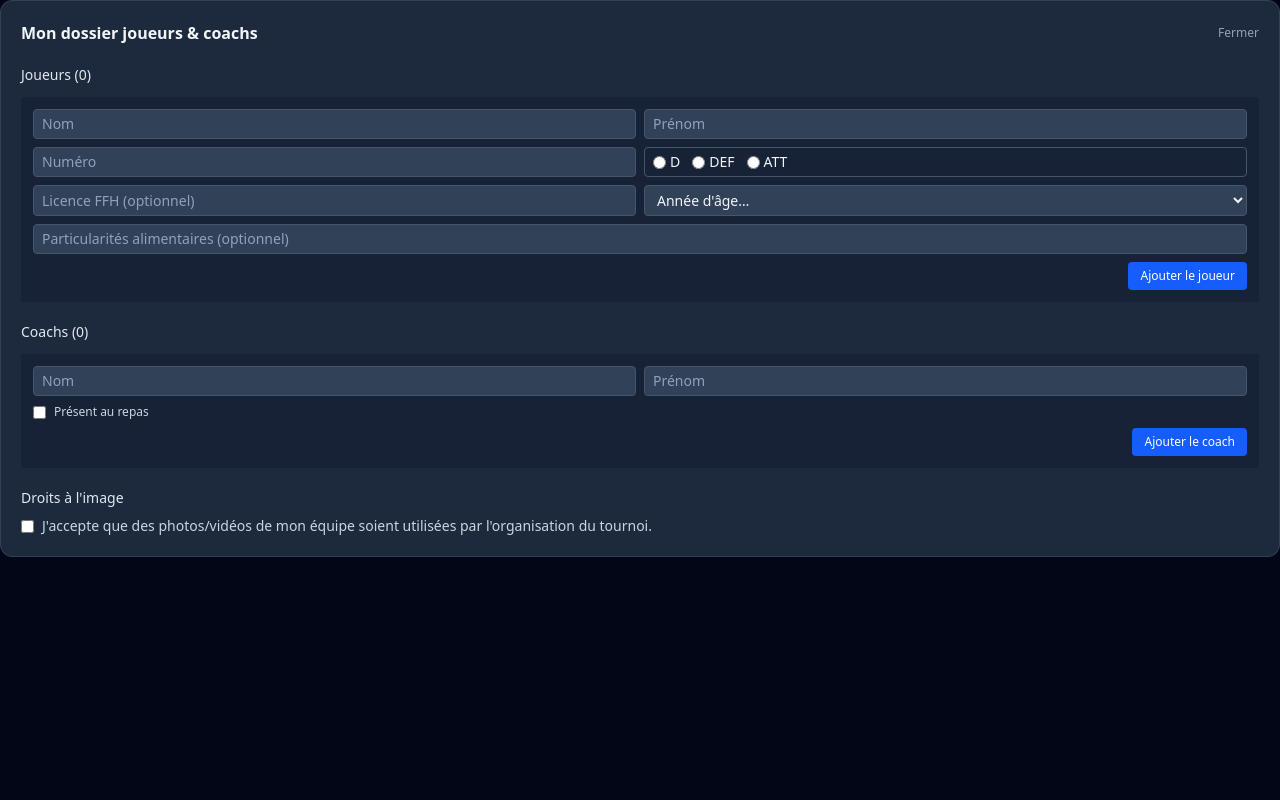
Test: DossierPanel › rejects joueur submission when a required field is missing (nom seul renseigné)
The image size is (1280, 800).
Expected: the heading "Joueurs (0)" is shown, 21,65 -> 91,84
In the field with placeholder "Nom" below "Joueurs (0)": coordinates (334, 124) 33,109 -> 636,139, type "Gretzky"
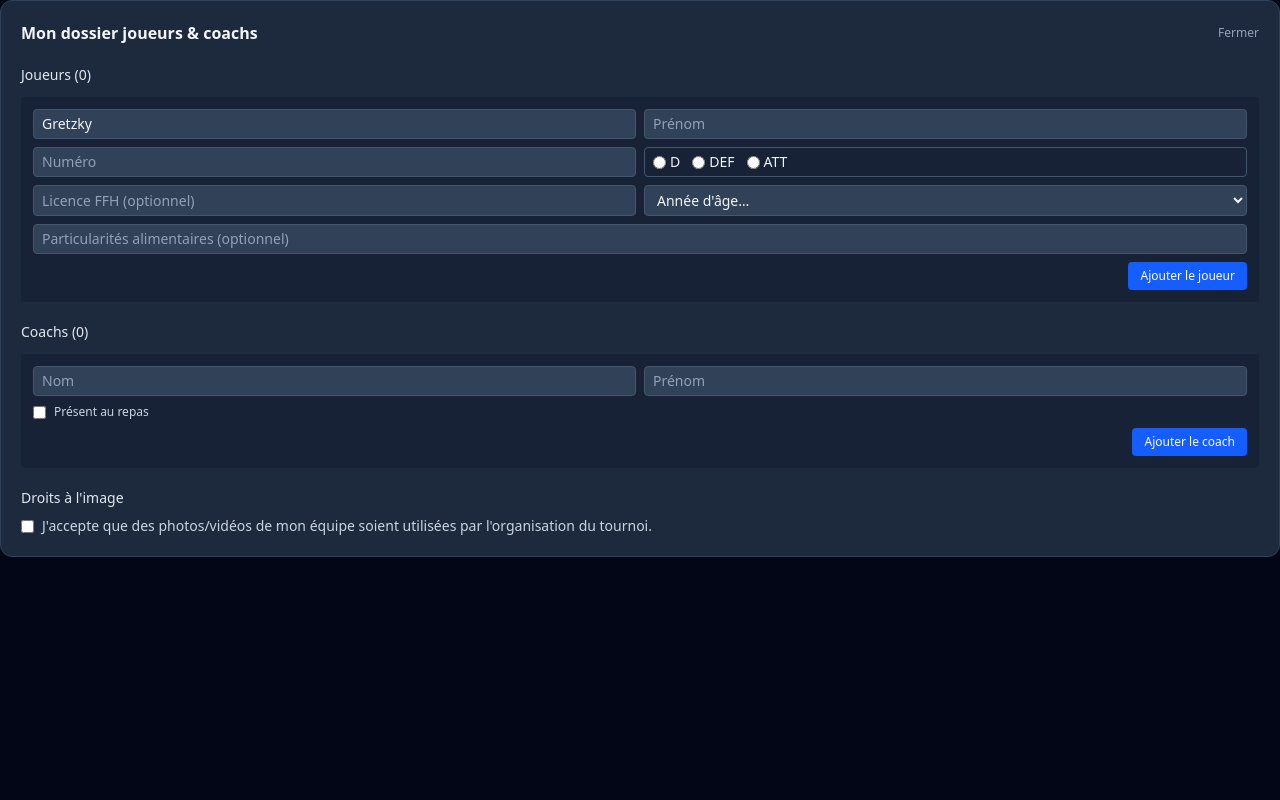
Click the button "Ajouter le joueur": coordinates (1188, 276) 1128,262 -> 1247,290
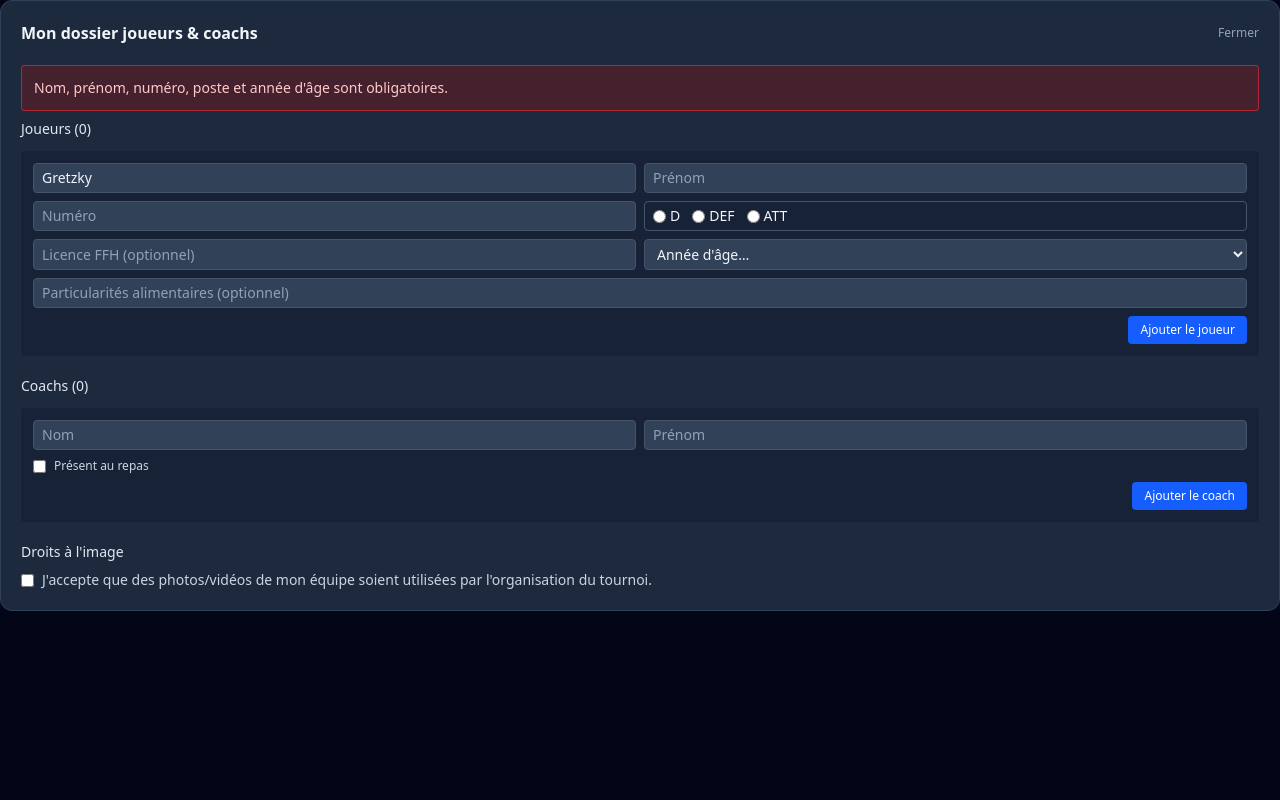
Now the text "Nom, prénom, numéro, poste et année d'âge sont obligatoires." is shown, box 21,65 -> 1259,111
